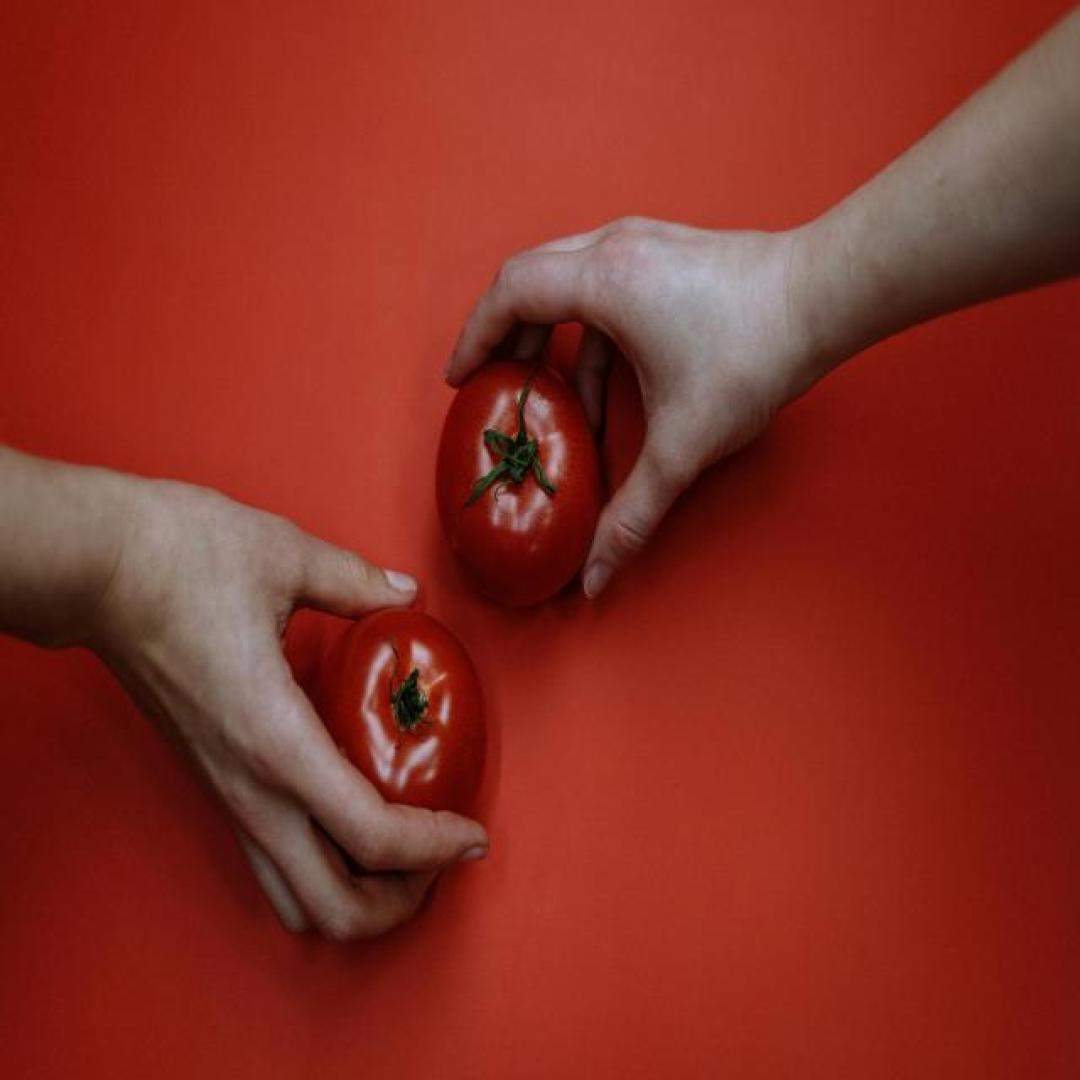matang: (314, 604, 488, 866), (432, 359, 601, 606)
